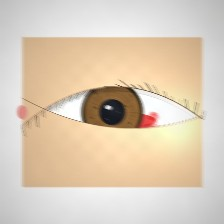hemorrhage_spot: (86, 88, 167, 153)
